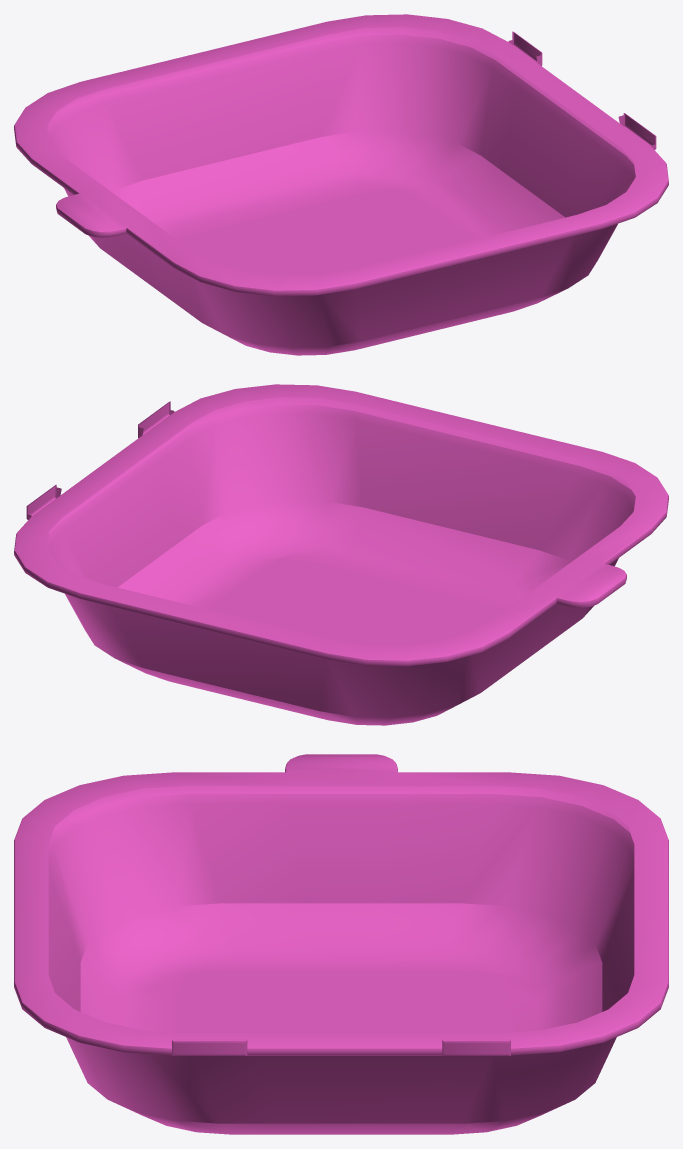
The model's file is donut_kap.fbx.
3 renders of one model, top to bottom at view 1: azimuth 30°, elevation 25°; view 2: azimuth 150°, elevation 25°; view 3: azimuth 270°, elevation 25°, orthographic. The views are drawn at different scales.
Visible parts, largest first — view 1: donut.001; view 2: donut.001; view 3: donut.001.
Part boxes in pixels (x1,y1,x2,y2): donut.001: [14, 14, 668, 355]; donut.001: [14, 384, 668, 725]; donut.001: [14, 754, 668, 1134].
Bounding box in the file's own units: 257 × 58.84 × 238.
